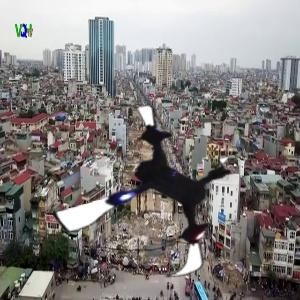drone: (52, 98, 246, 292)
